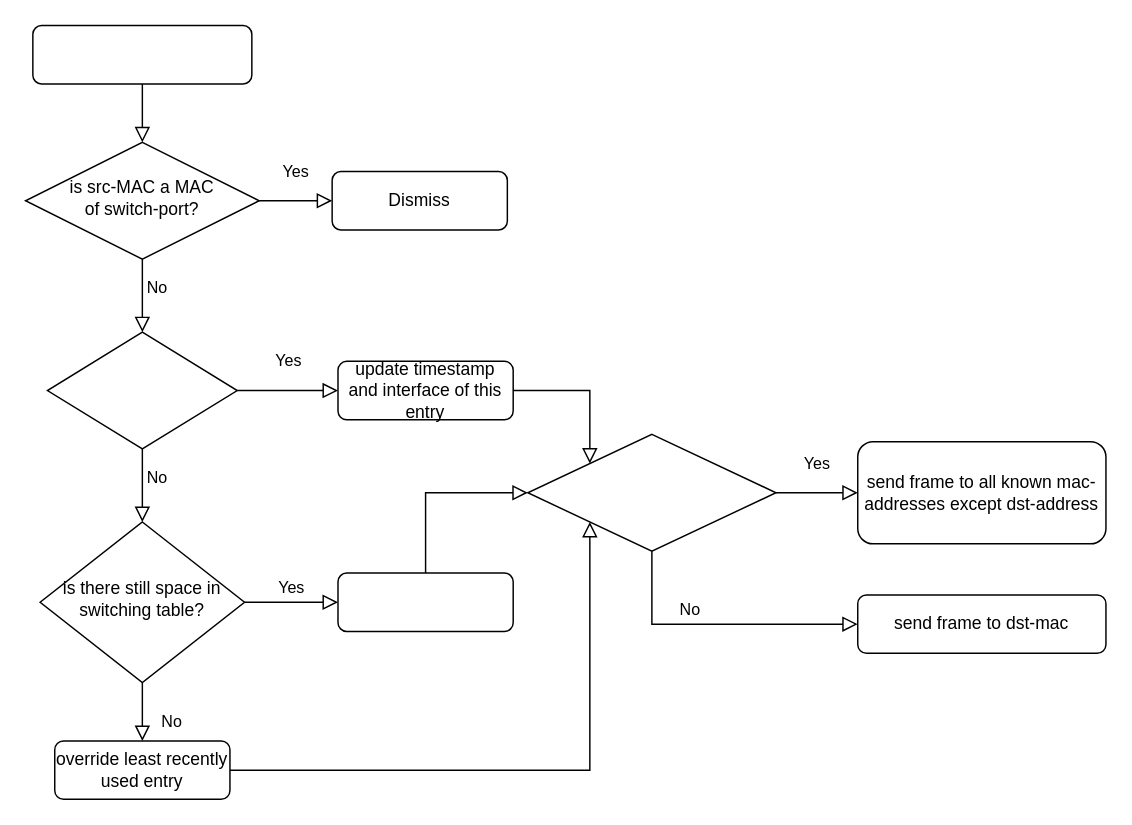
Image size: 1132x825. Some labels were removed from this diagram. The shapes that lost their labels are listed below. From the top down, each one's centre as x and y in pixels, then its label:
the point at 141,54: Switch receives frame
the point at 141,390: is src-MAC in switching table?
the point at 651,492: is dst-mac broadcast/multicast?
the point at 425,601: create entry
